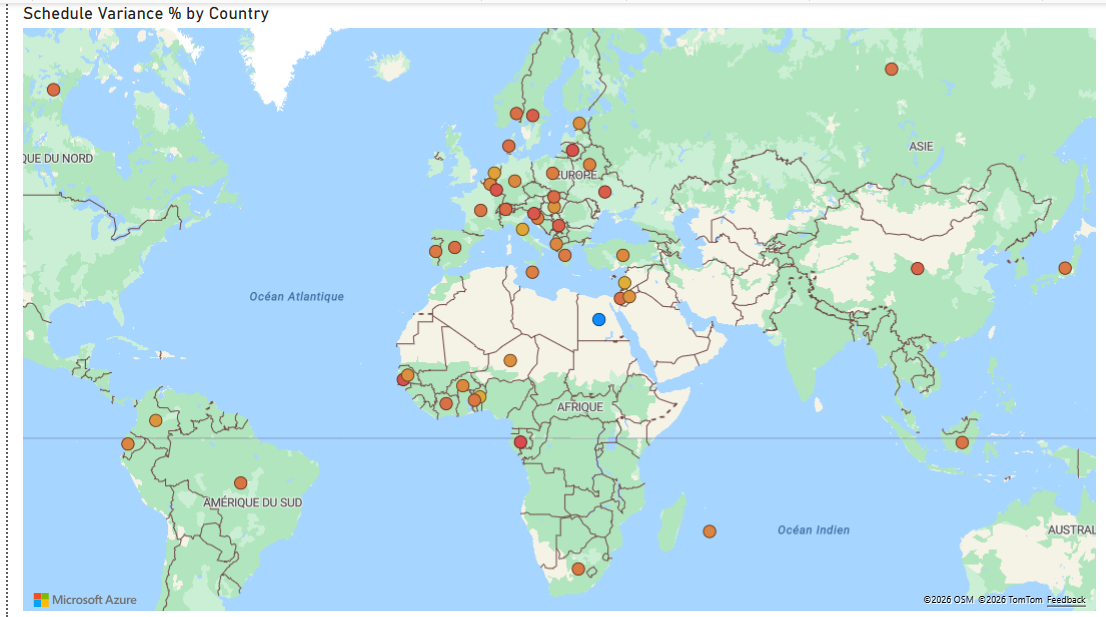

What the dashboard file says about the page in this screenshot:
{"tool":"powerbi","page":{"name":"Maps","canvas":[1280,720],"ordinal":3},"visuals":[{"type":"azureMap","fields":{"Category":["Country_Profiles.Country"]},"box":[9.6,0,1059.4,599.7],"z":0}]}

Visuals, with their boxes in screenshot pixels (x1, y1, x2, y2), scaled from the page's 1280x720 canvas onto the 1106x617 screenshot:
azureMap - Country_Profiles.Country: [8, 0, 924, 514]
